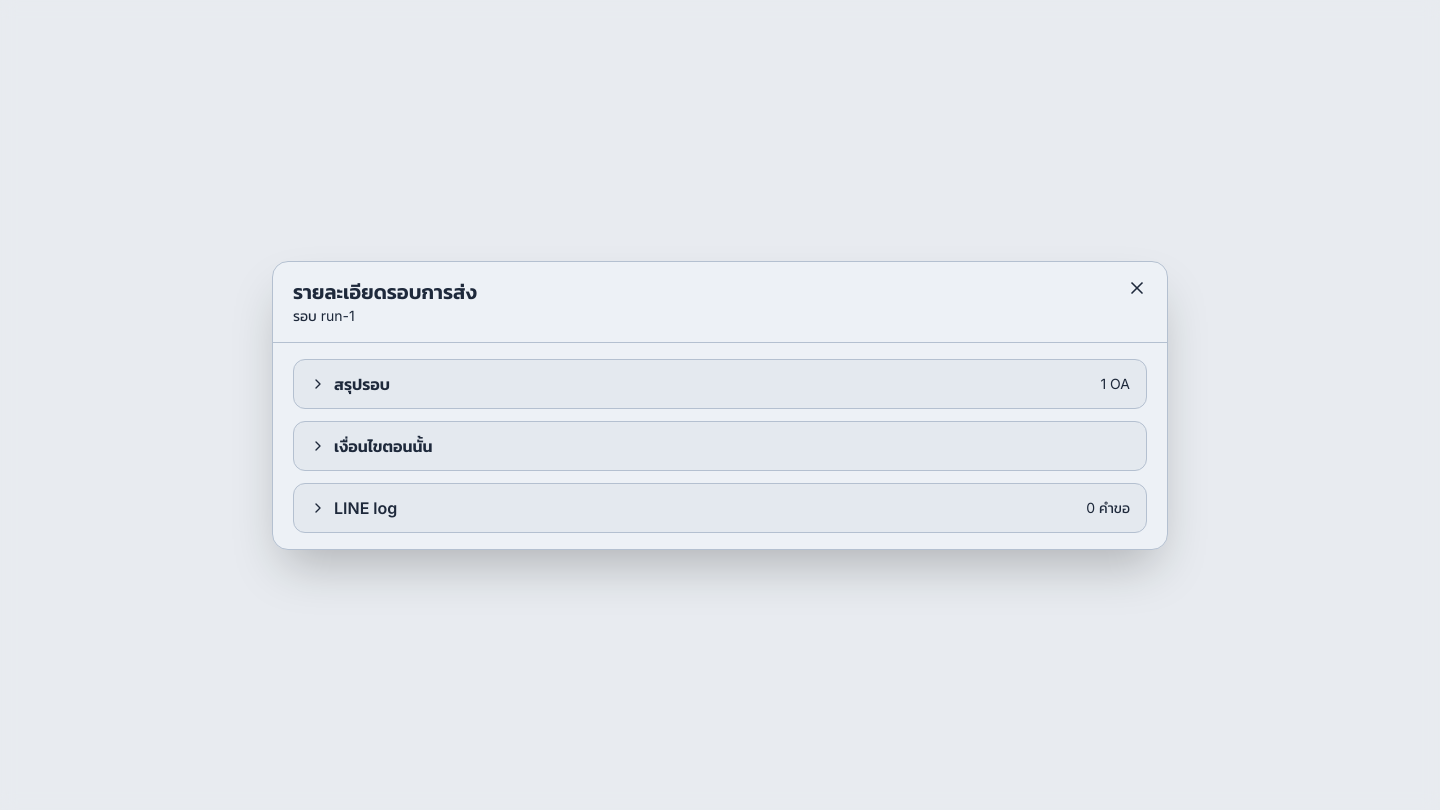
🔴 สรุปรอบ and LINE log are two sections — never one table › folds one section without touching the other
This screenshot has width=1440, height=810.
Click the button with test id "run-section-summary-toggle" at x=362, y=384, box [294, 360, 1146, 408]
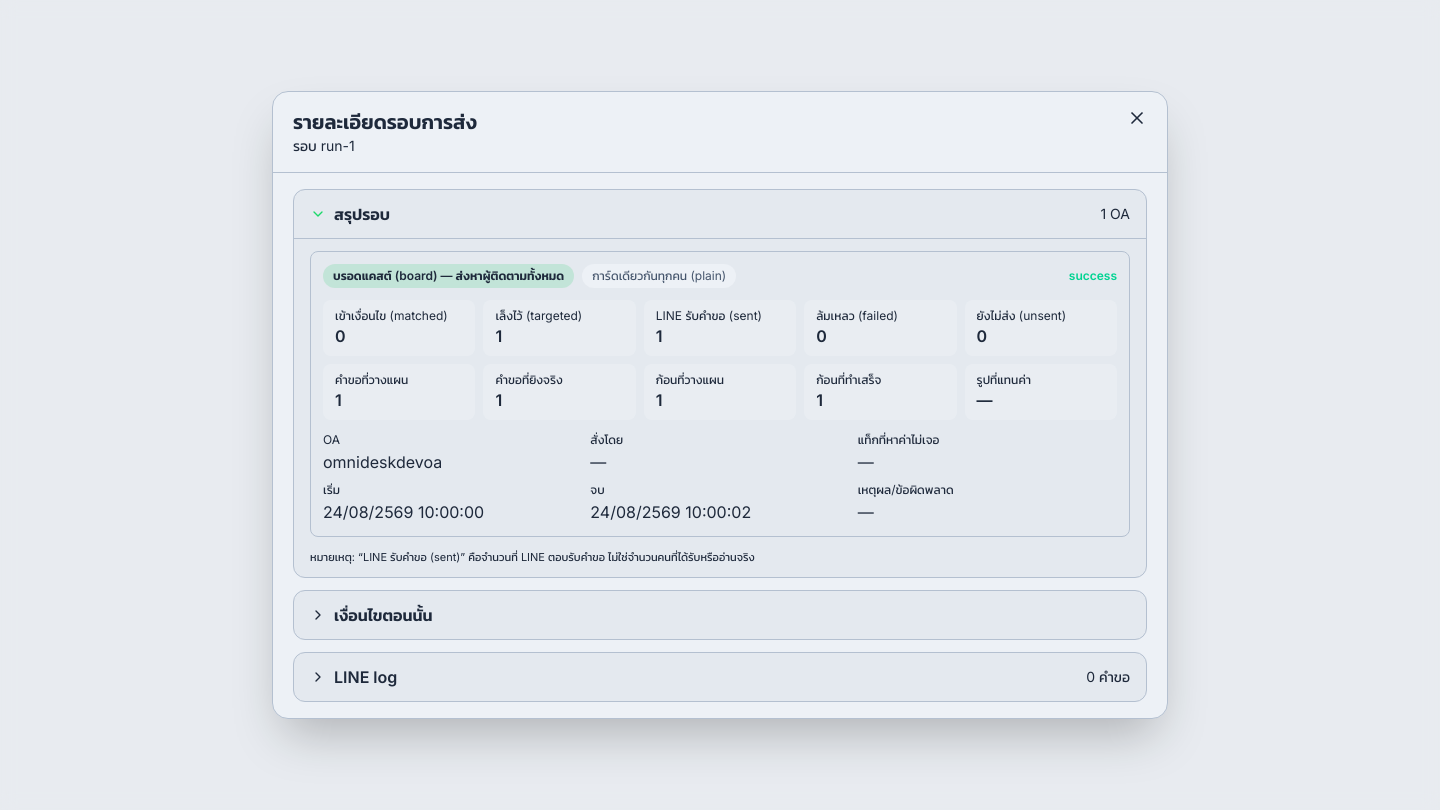
Click the button "เงื่อนไขตอนนั้น" at x=383, y=615, box [294, 591, 1146, 639]
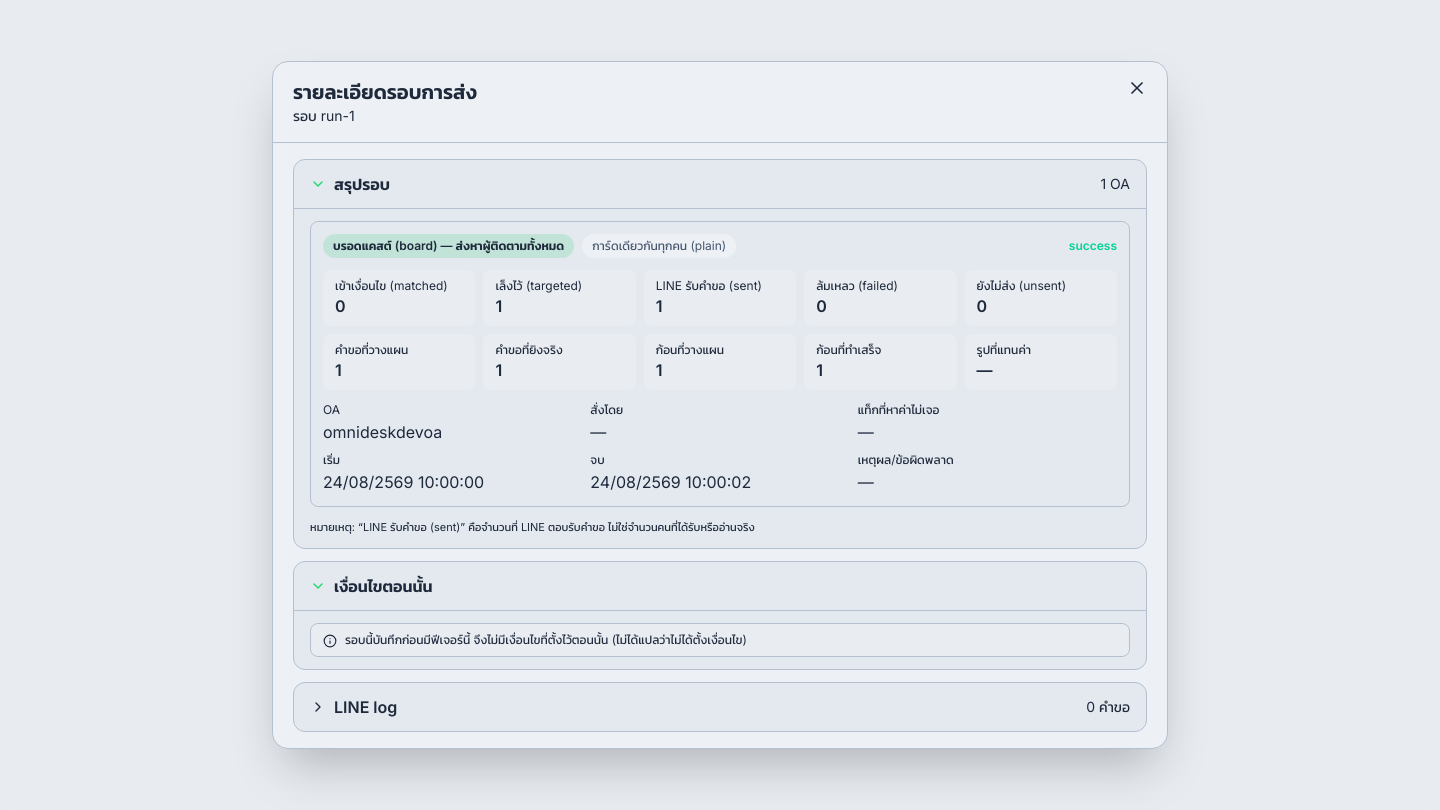
Click the button with test id "run-section-logs-toggle" at x=366, y=707, box [294, 683, 1146, 731]
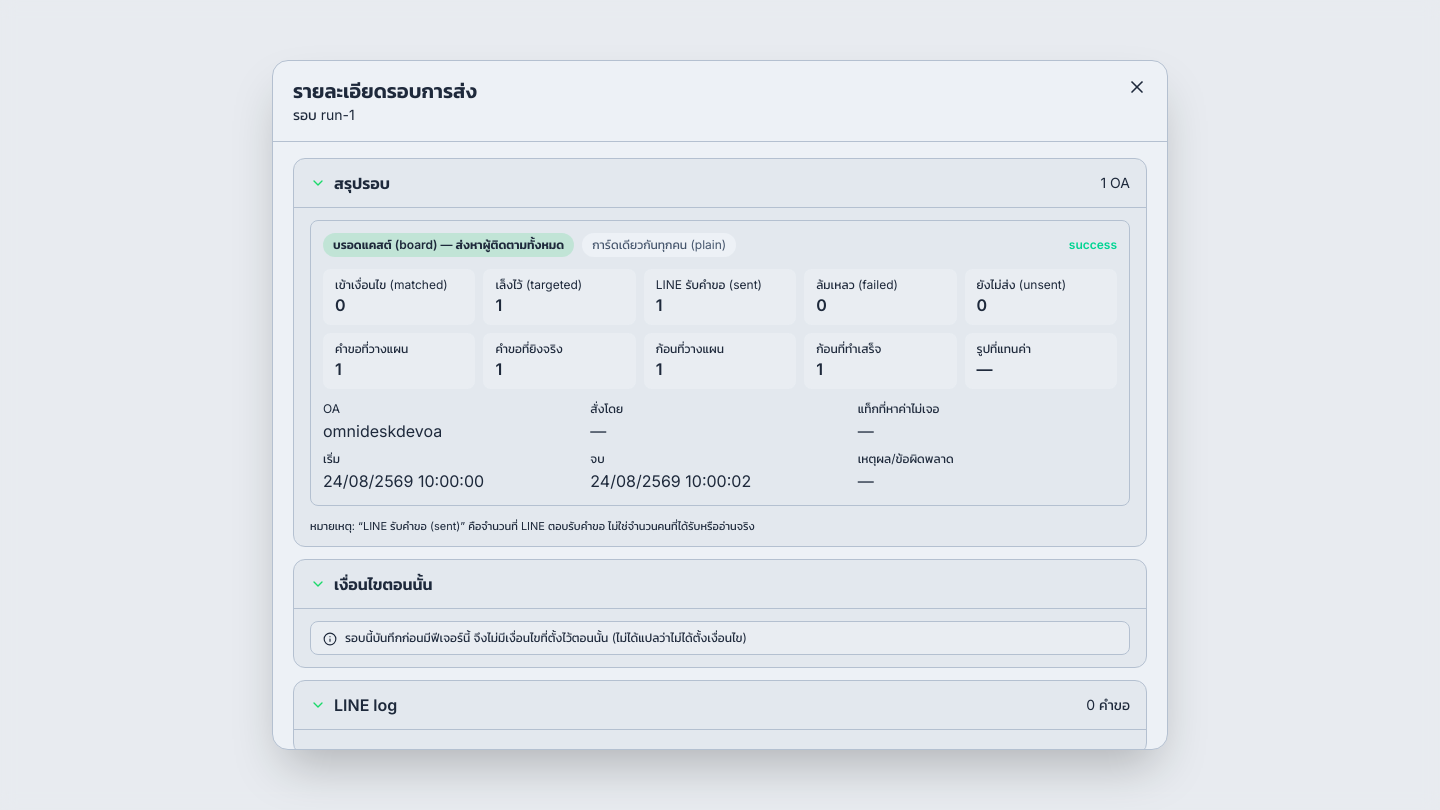
Check: the element with test id "run-summary" is shown, box [310, 220, 1130, 534]
Click the button with test id "run-section-summary-toggle" at x=362, y=183, box [294, 159, 1146, 207]
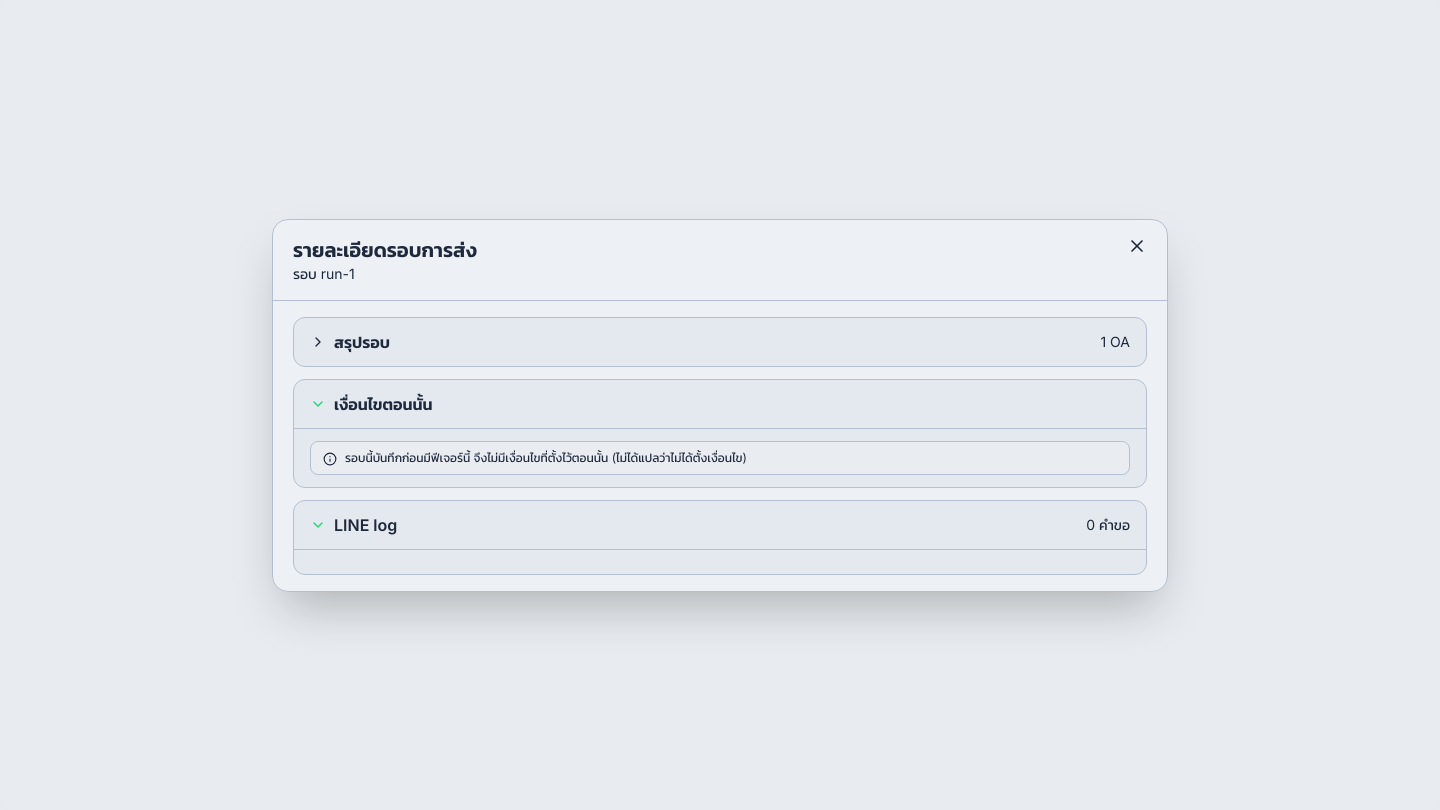
Check: the element with test id "run-section-logs-body" is shown, box [294, 548, 1146, 574]
Check: the element with test id "run-section-summary-body" is gone
